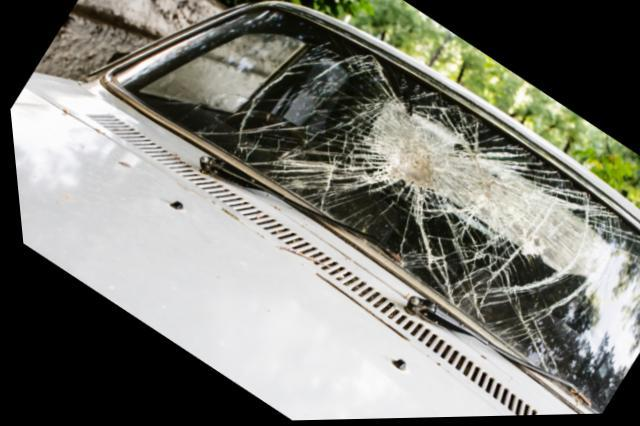glass shatter: (111, 7, 640, 416)
